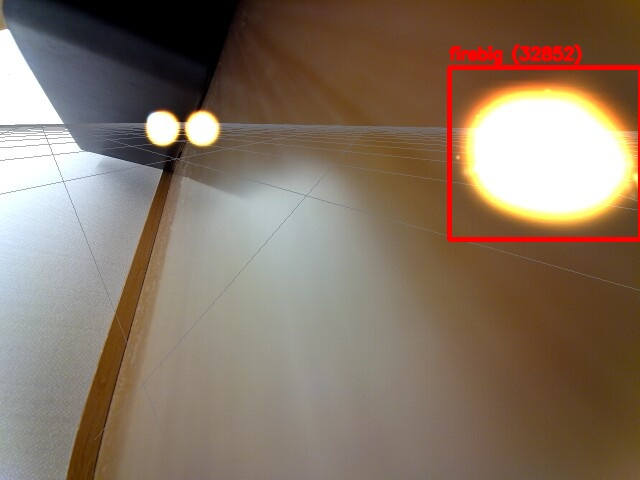firebig: (449, 67, 640, 239)
